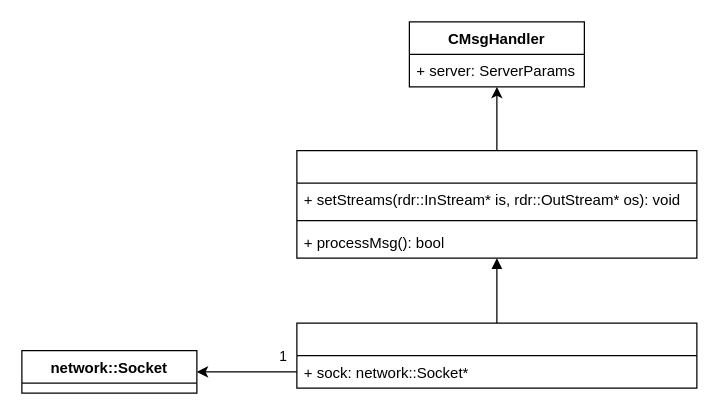
Image size: 719x415. Some labels were removed from this diagram. Here are the shapes that lost their labels. From the top down, the box of each, then its label:
(296, 149, 697, 258): CConnection
(296, 322, 697, 388): CConn
